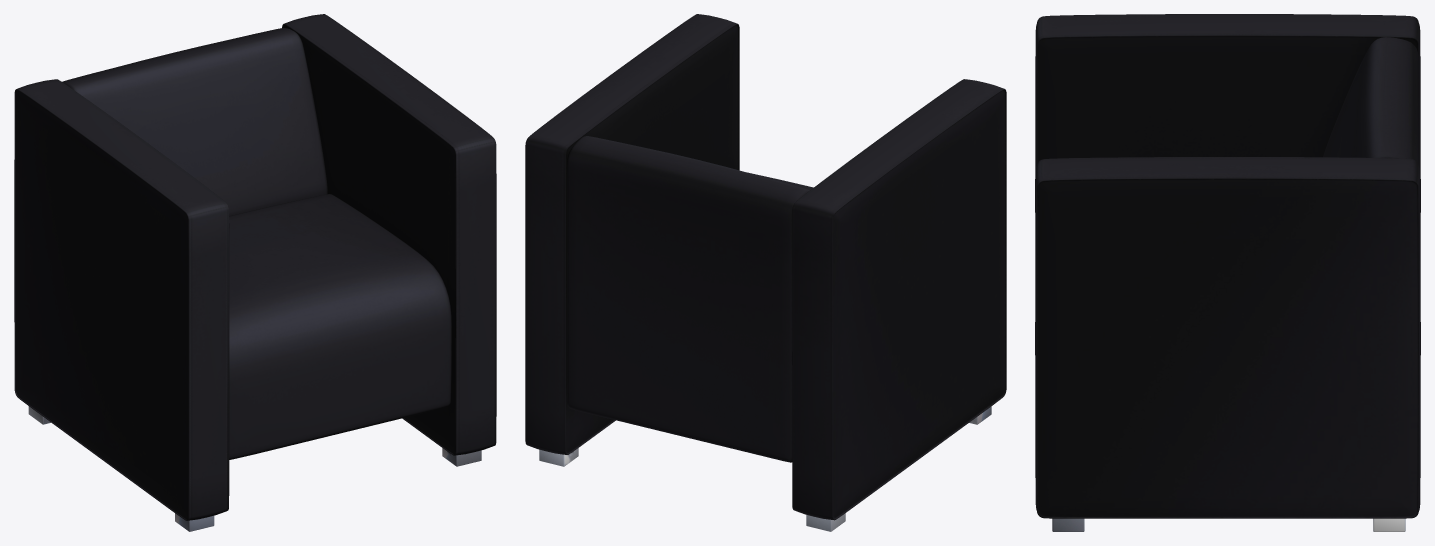
Rendered from z_rich_i_white_laquered_wood.glb.
3 renders of one model, left to right at view 1: azimuth 30°, elevation 25°; view 2: azimuth 150°, elevation 25°; view 3: azimuth 270°, elevation 25°, orthographic. The views are drawn at different scales.
Visible parts, largest first — view 1: zuerich_i-black; view 2: zuerich_i-black; view 3: zuerich_i-black.
Boxes of the visible parts, box(x1,y1,x2,y2) form: zuerich_i-black: box(14, 14, 496, 531); zuerich_i-black: box(525, 14, 1006, 531); zuerich_i-black: box(1035, 14, 1420, 531).
Bounding box in the file's own units: 0.6974 × 0.7102 × 0.6898.
Materials: 1 (1 with a texture image).
